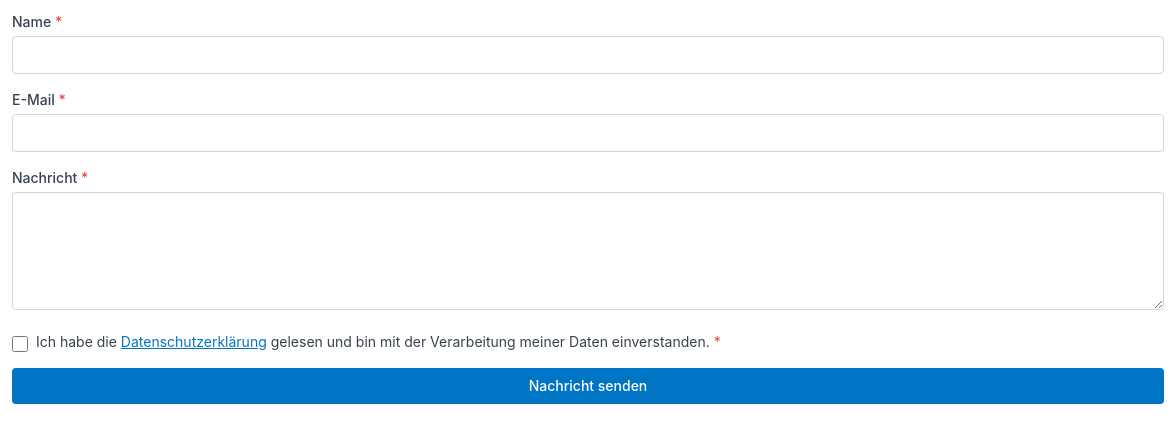
Test: ContactForm › should show validation error for invalid email format
This screenshot has width=1176, height=445.
Type "Test" into the field labelled "Name *" at [588, 55], box [12,36,1164,74]
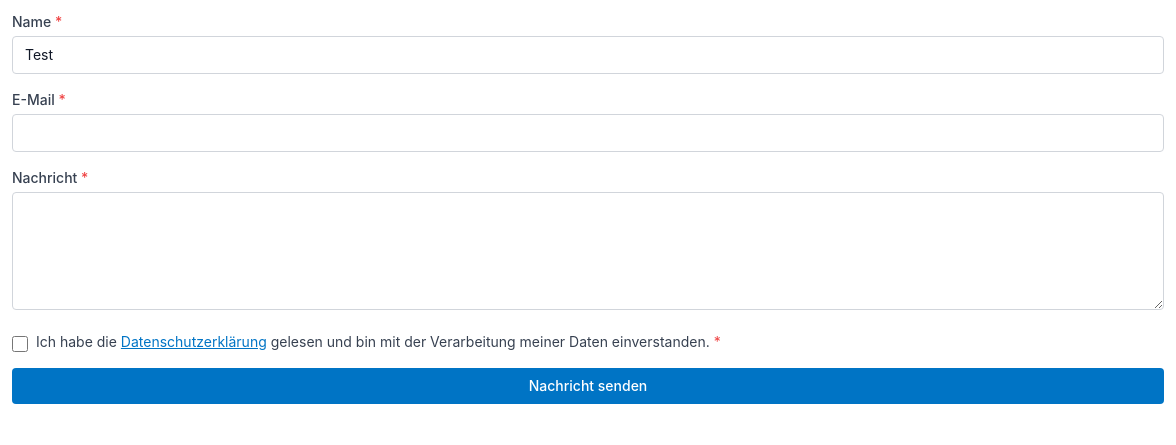
Type "invalid-email" into the field labelled "E-Mail *" at [588, 133], box [12,114,1164,152]
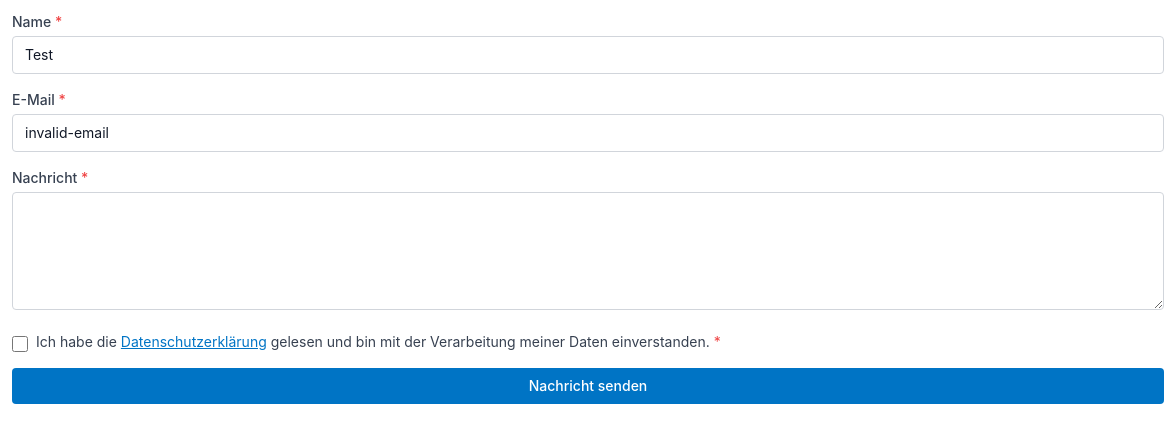
Type "Test" into the text box labelled "Nachricht *" at [588, 251], box [12,192,1164,310]
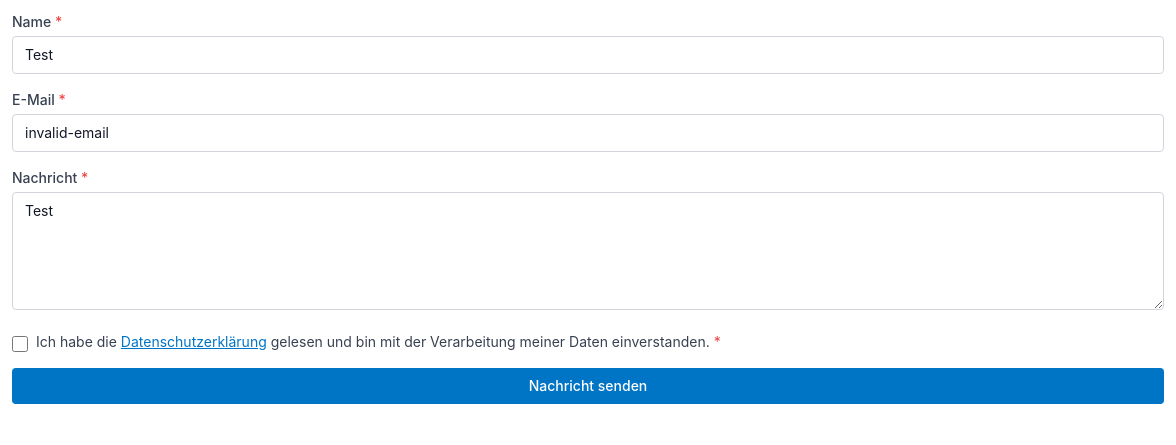
Click the checkbox at [20, 344], box [12,336,28,352]
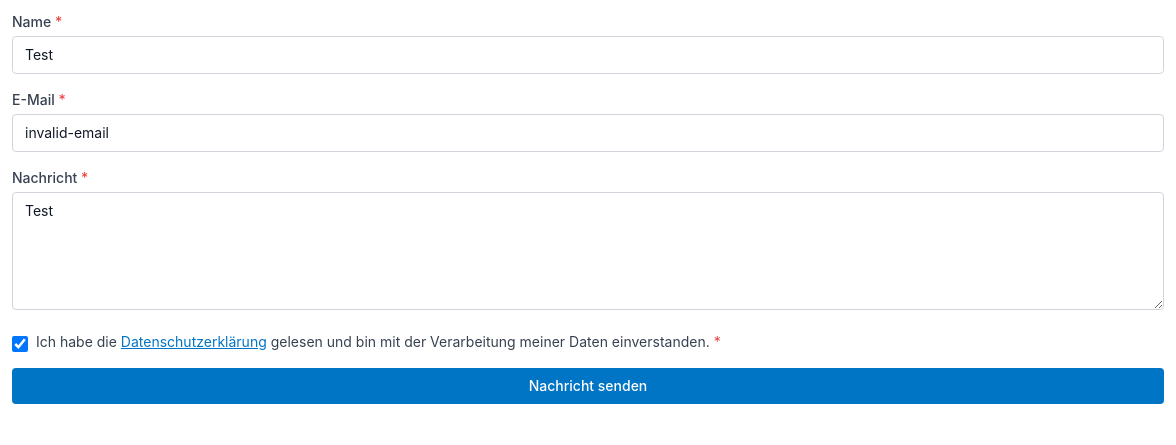
Click the button "Nachricht senden" at [588, 386], box [12,368,1164,404]
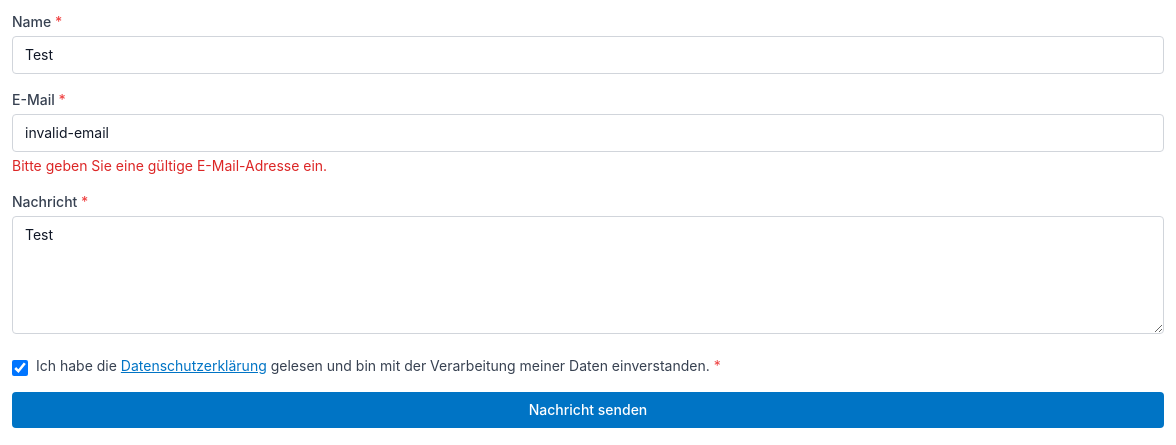
expect the text "Bitte geben Sie eine gültige E-Mail-Adresse ein." is shown: met, box [12,157,327,174]
